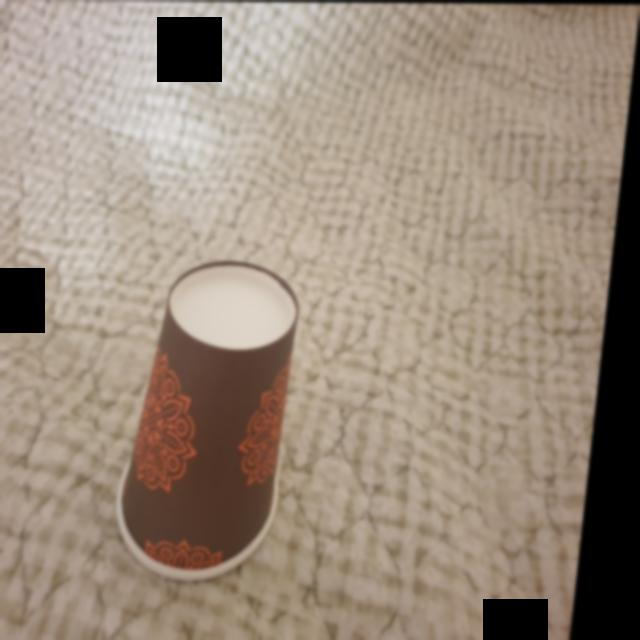cups: (119, 255, 317, 585)
